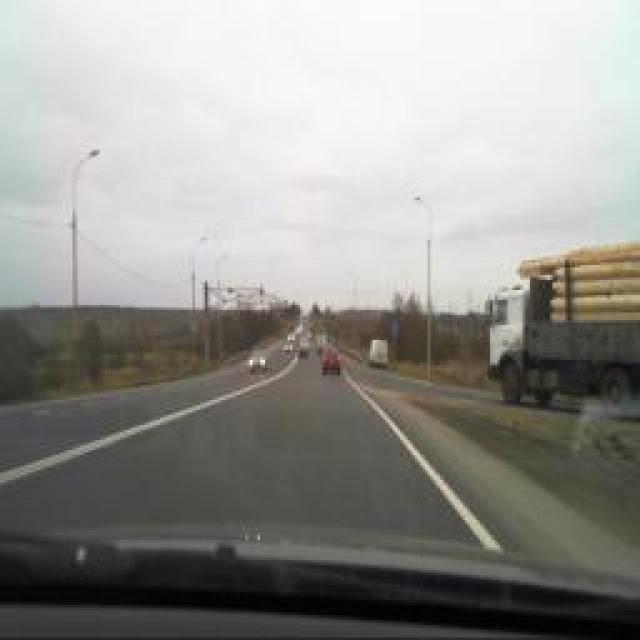sign: (390, 319, 400, 336)
